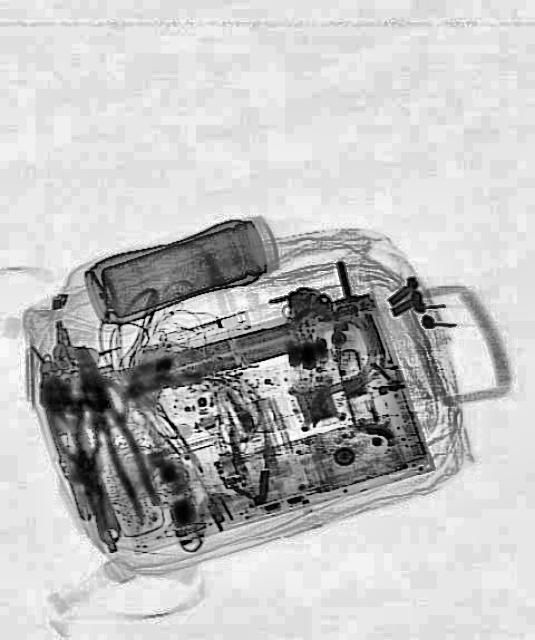Pliers: (66, 339, 160, 516)
